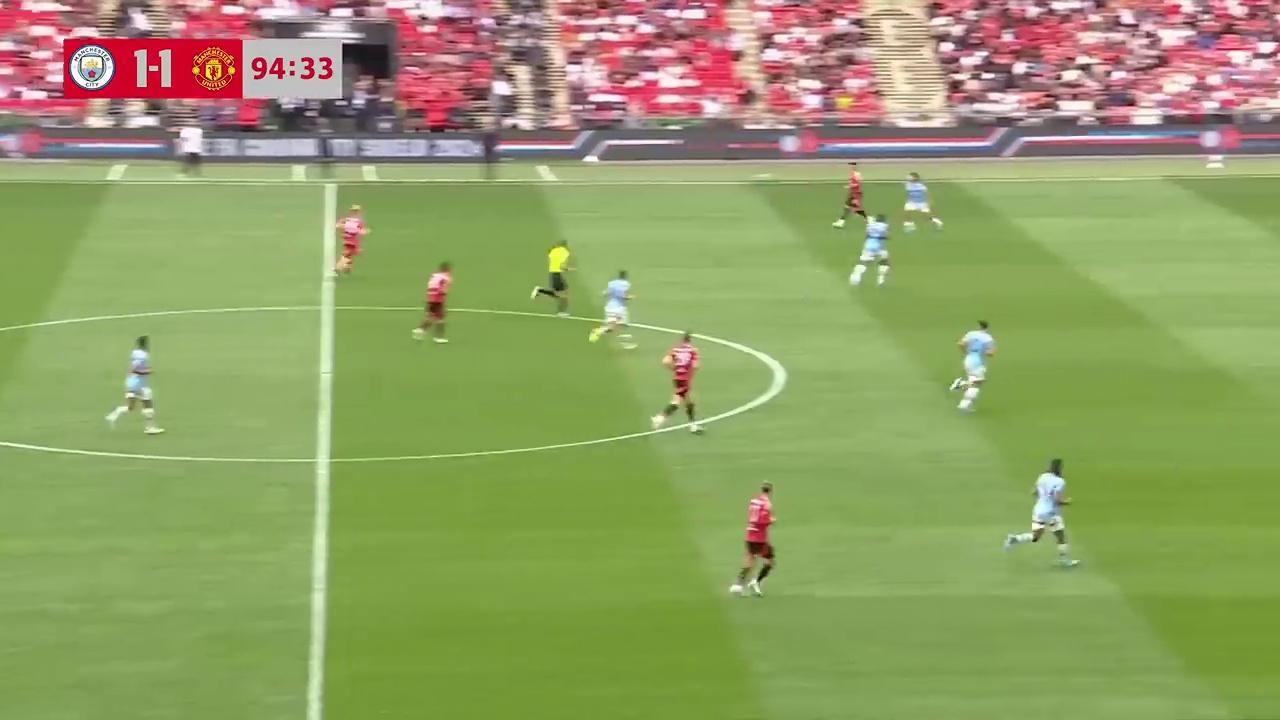player: (1007, 458, 1078, 567), (727, 482, 777, 601), (104, 335, 163, 433), (656, 332, 700, 434), (949, 320, 996, 411), (588, 269, 635, 345), (410, 263, 452, 345), (847, 210, 891, 288), (333, 206, 370, 275), (902, 173, 942, 234), (830, 164, 865, 230)
referee: (529, 240, 574, 318)
